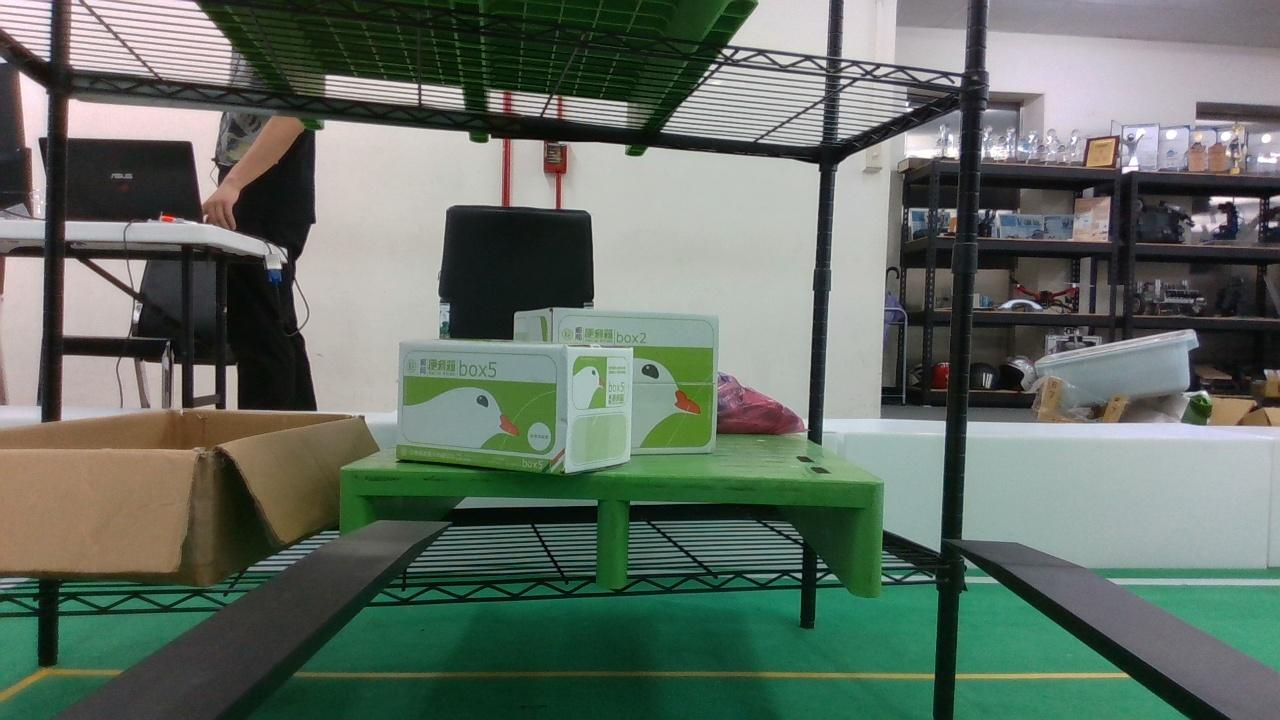Pallet: (341, 469, 886, 598)
